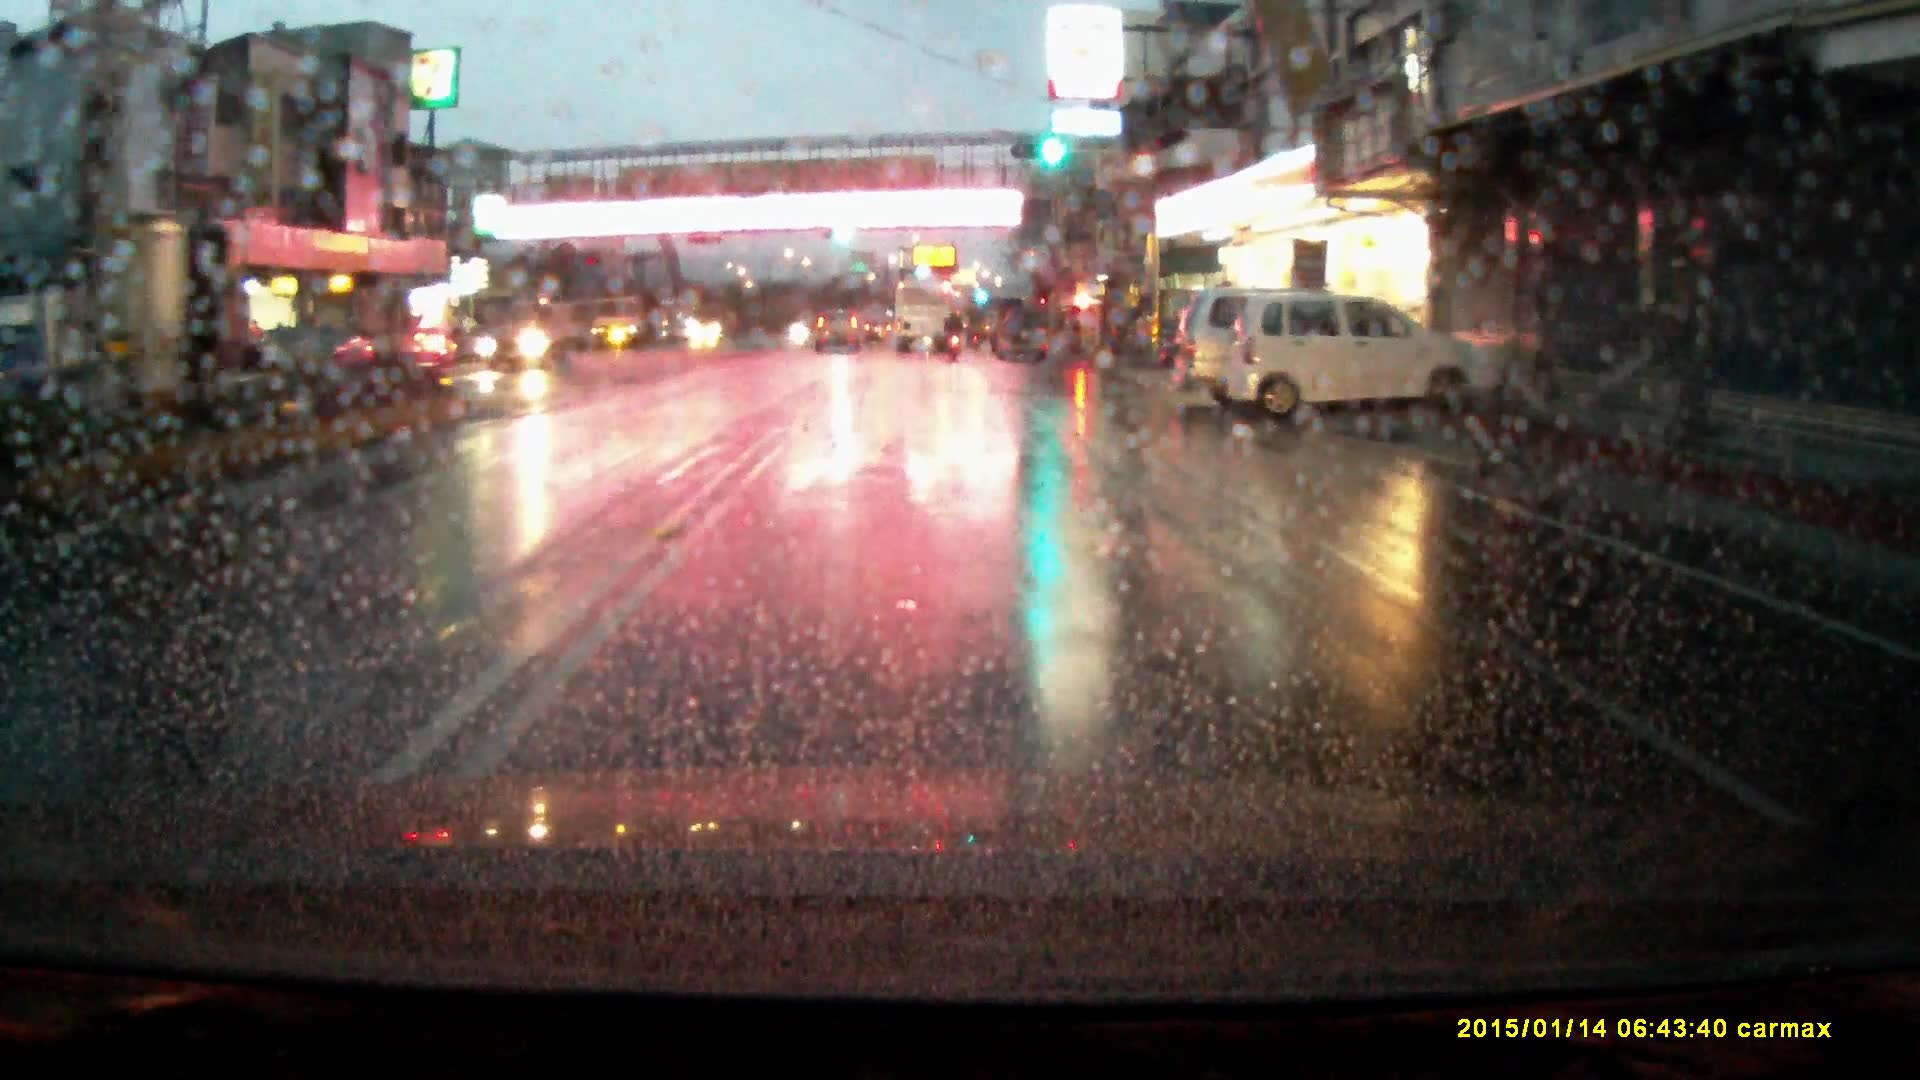rider: (944, 311, 965, 364)
vehicle: (1229, 293, 1508, 428), (1172, 285, 1336, 412), (475, 296, 576, 371), (277, 321, 379, 375), (896, 278, 950, 347), (592, 294, 659, 347), (992, 305, 1052, 361), (393, 325, 464, 368), (686, 298, 744, 343), (816, 304, 865, 351), (1106, 306, 1152, 355)
